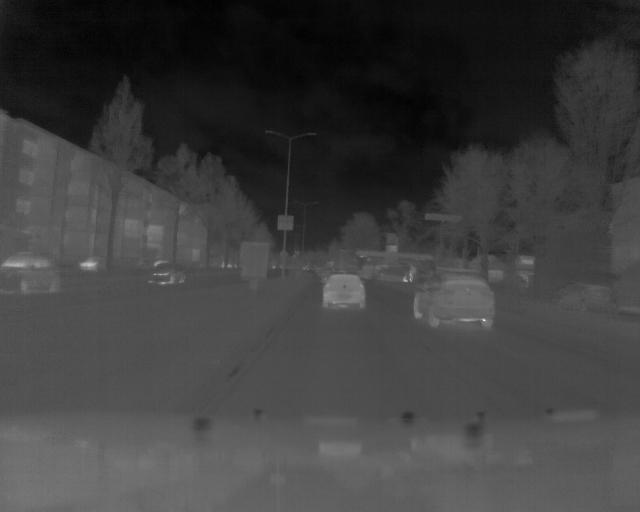car: (410, 274, 496, 328), (1, 248, 63, 297), (555, 279, 612, 315), (322, 272, 367, 307), (147, 265, 188, 288), (81, 253, 111, 274)
